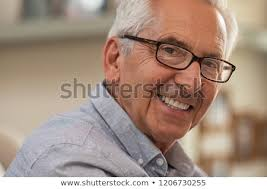Glasses: (127, 33, 239, 82)
